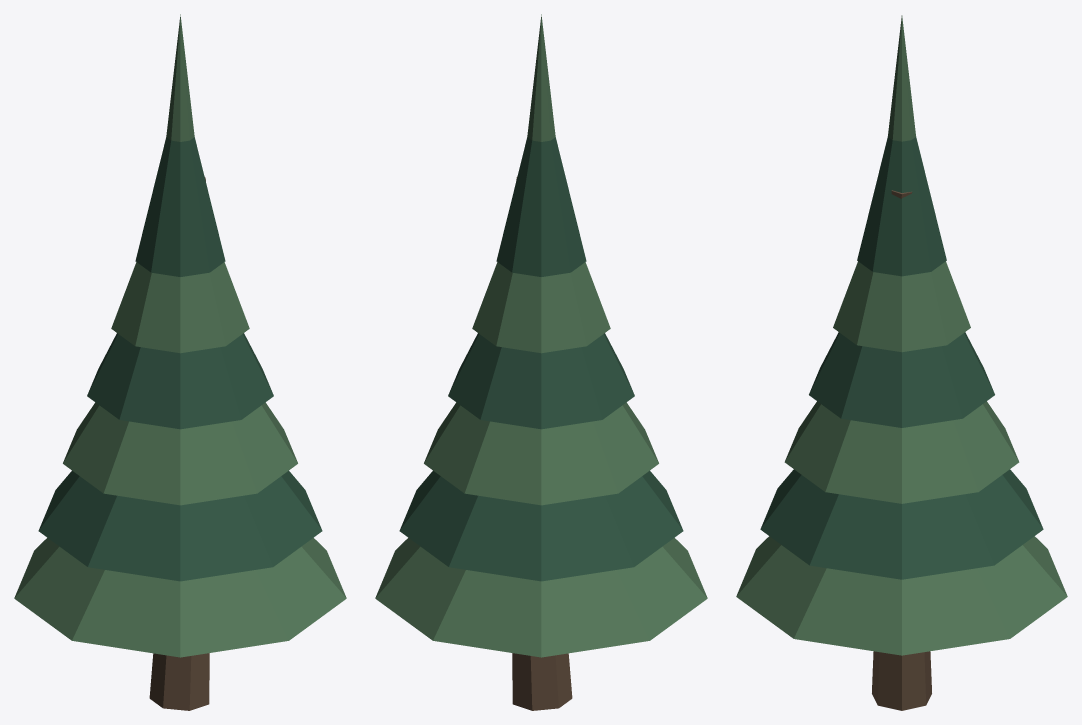
The model's file is vegetation-spruce.lod0.glb.
3 views of the same model, side by side, from view 1: azimuth 30°, elevation 25°; view 2: azimuth 150°, elevation 25°; view 3: azimuth 270°, elevation 25° (orthographic).
Parts seen in each view (by area): view 1: vegetation-spruce__body; view 2: vegetation-spruce__body; view 3: vegetation-spruce__body.
Part boxes in pixels (<box>): vegetation-spruce__body: <box>14,14,346,710</box>; vegetation-spruce__body: <box>375,14,707,710</box>; vegetation-spruce__body: <box>736,15,1067,710</box>.
Size of the model in its own units: 3.17 by 7.31 by 3.21.
